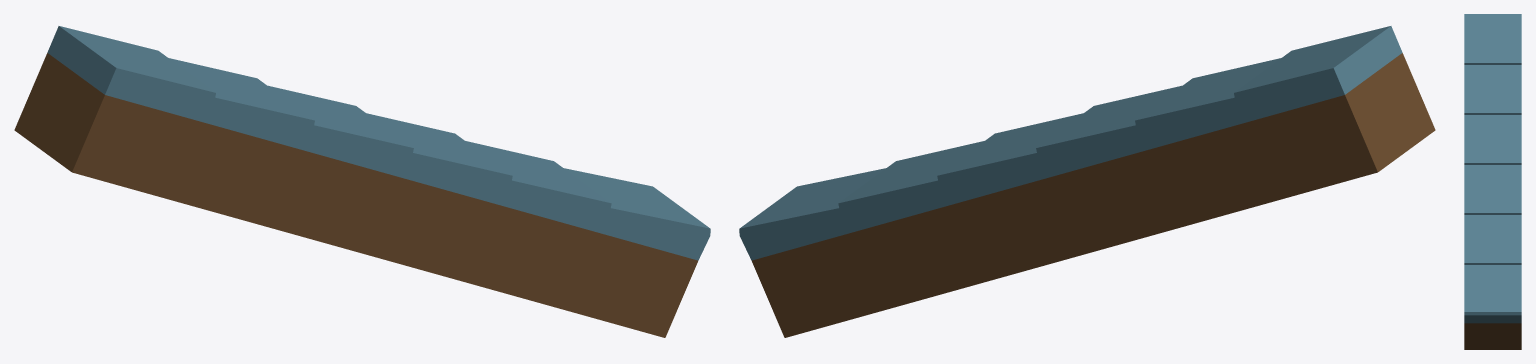
File: BlueRoof_Middle.fbx
3 renders of one model, left to right at view 1: azimuth 30°, elevation 25°; view 2: azimuth 150°, elevation 25°; view 3: azimuth 270°, elevation 25°, orthographic. The views are drawn at different scales.
Visible parts, largest first — view 1: BlueRoof_Middle; view 2: BlueRoof_Middle; view 3: BlueRoof_Middle.
Boxes of the visible parts, x1,y1,x2,y2 form: BlueRoof_Middle: [14, 26, 710, 337]; BlueRoof_Middle: [739, 26, 1435, 337]; BlueRoof_Middle: [1464, 14, 1521, 349].
Size of what is drawn, in the model's own units: 129 by 78.1 by 20.2.
